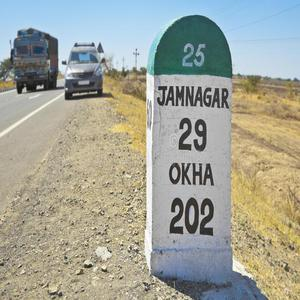kmstone: (143, 11, 237, 282)
